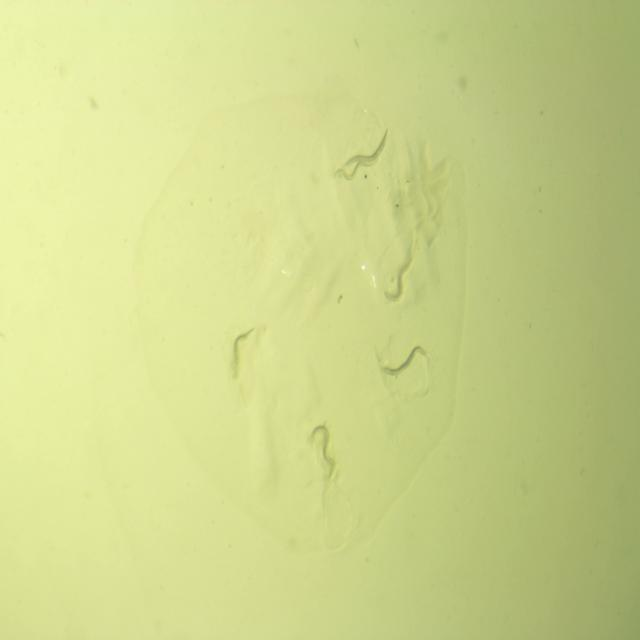worm: (343, 125, 390, 168), (382, 342, 430, 381), (229, 324, 256, 380), (330, 154, 380, 184), (382, 259, 412, 306), (309, 421, 335, 469)
